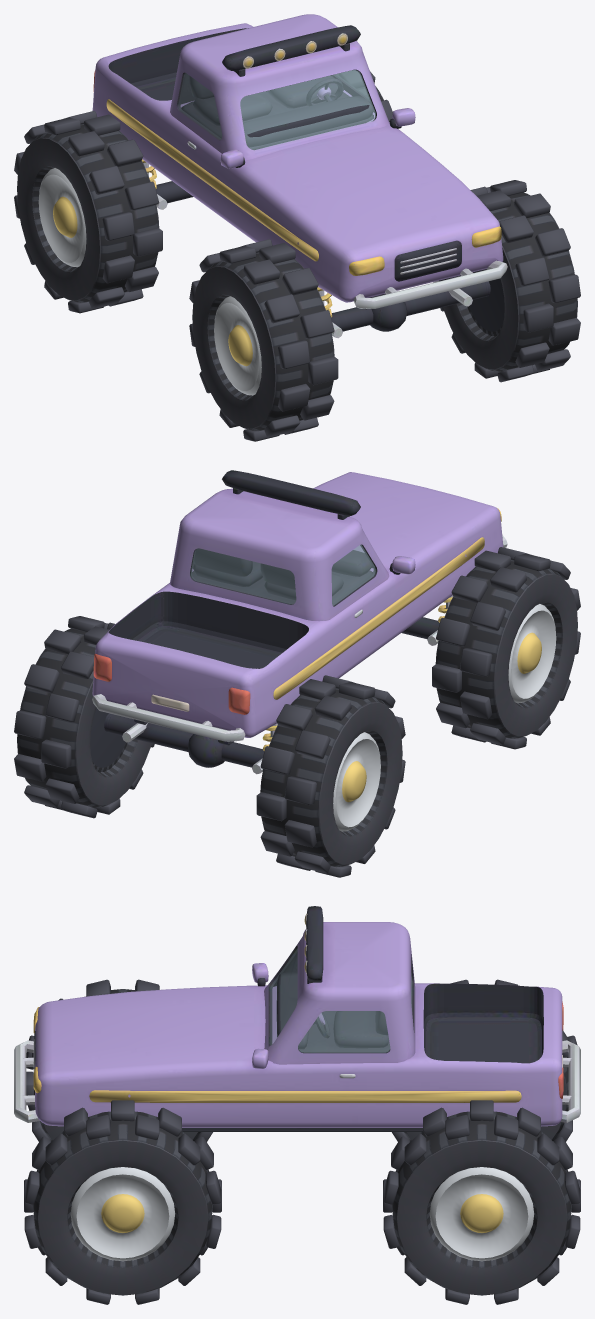
Rendered from monster-truck.glb.
3 views of the same model, one above another, from view 1: azimuth 30°, elevation 25°; view 2: azimuth 150°, elevation 25°; view 3: azimuth 270°, elevation 25° (orthographic). The views are drawn at different scales.
Parts seen in each view (by area): view 1: monster-truck_body, monster-truck_wheel_fr, monster-truck_wheel_rr, monster-truck_wheel_fl, monster-truck_windows, monster-truck_wheel_rl; view 2: monster-truck_body, monster-truck_wheel_rr, monster-truck_wheel_fr, monster-truck_wheel_rl, monster-truck_windows; view 3: monster-truck_body, monster-truck_wheel_rl, monster-truck_wheel_fl, monster-truck_windows, monster-truck_wheel_fr, monster-truck_wheel_rr.
Part boxes in pixels (x1,y1,x2,y2): monster-truck_body: [92, 14, 507, 338]; monster-truck_wheel_fr: [189, 239, 338, 441]; monster-truck_wheel_rr: [14, 111, 162, 313]; monster-truck_wheel_fl: [440, 180, 580, 382]; monster-truck_windows: [178, 70, 375, 149]; monster-truck_wheel_rl: [337, 70, 392, 121]; monster-truck_body: [92, 470, 507, 774]; monster-truck_wheel_rr: [256, 675, 405, 877]; monster-truck_wheel_fr: [432, 547, 580, 749]; monster-truck_wheel_rl: [14, 616, 154, 818]; monster-truck_windows: [191, 545, 375, 605]; monster-truck_body: [14, 906, 580, 1131]; monster-truck_wheel_rl: [383, 1100, 580, 1304]; monster-truck_wheel_fl: [24, 1100, 221, 1304]; monster-truck_windows: [270, 949, 411, 1052]; monster-truck_wheel_fr: [26, 979, 212, 1141]; monster-truck_wheel_rr: [392, 979, 577, 1141].
Bounding box in the file's own units: 2.92 × 2.63 × 4.58.
18 materials, 5 textured.
